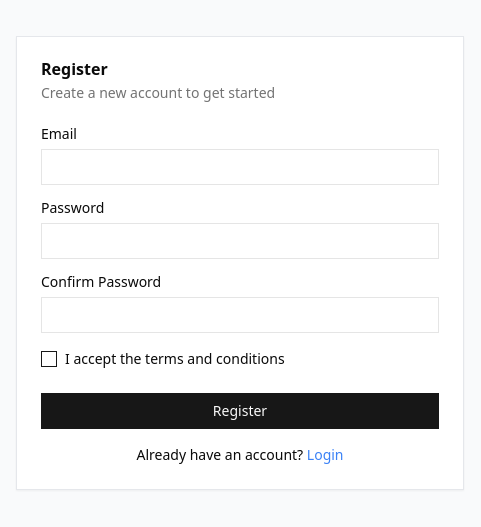
Test: RegisterPage › should show validation error when email is invalid
The width and height of the screenshot is (481, 527).
Type "invalid-email" into the field labelled "Email" at (240, 167), box [41,149,439,185]
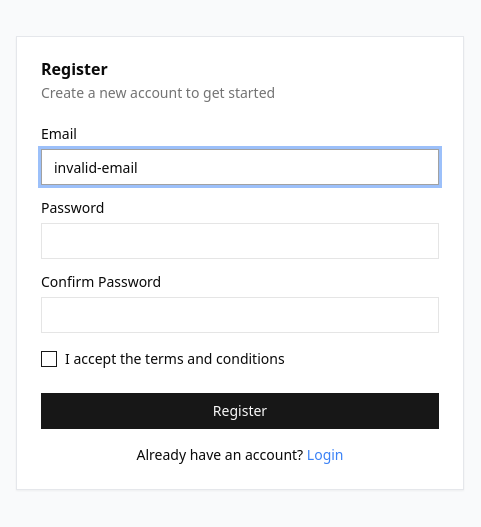
Type "password123" into the password field labelled "Password" at (240, 241), box [41,223,439,259]
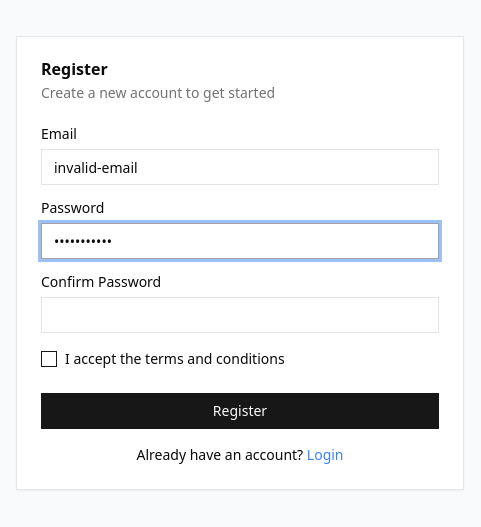
Type "password123" into the password field labelled "Confirm Password" at (240, 315), box [41,297,439,333]
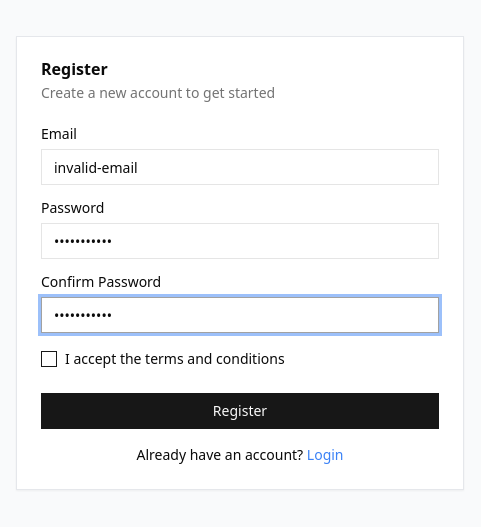
Click the checkbox named "accept the terms" at (49, 359), box [41,351,57,367]
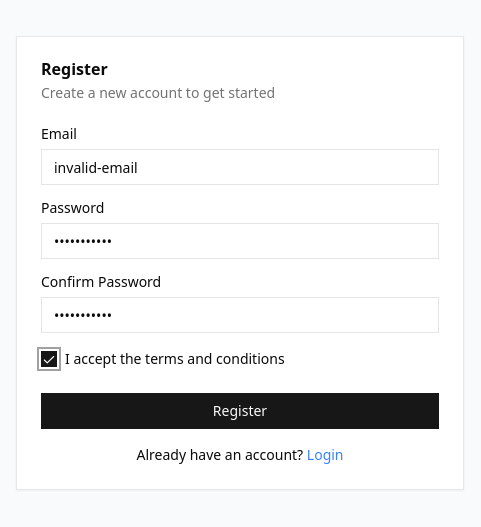
Click the button "Register" at (240, 411), box [41,393,439,429]
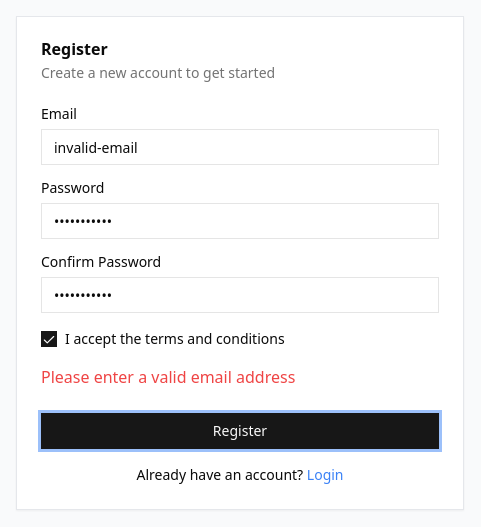
Expected: the text "Please enter a valid email address" is shown, [41,366,295,388]
